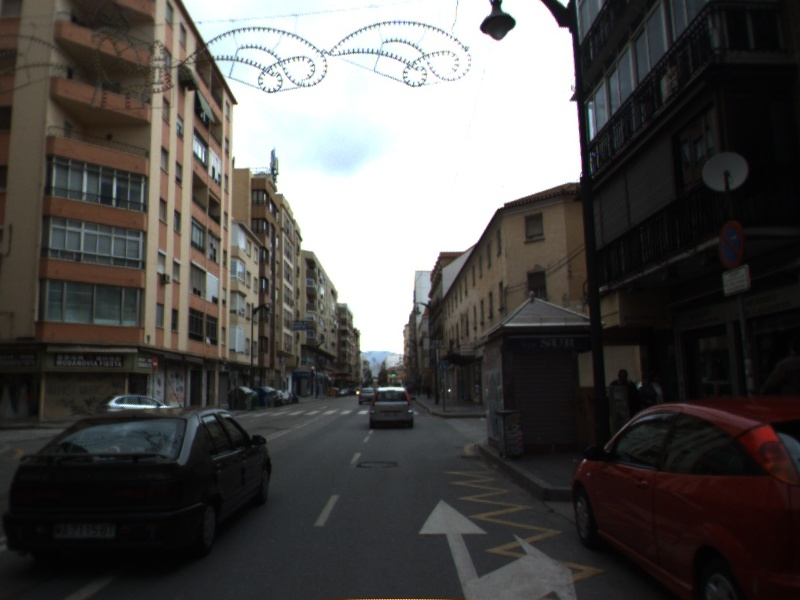STRAIGHT_RIGHT: (415, 494, 580, 600)
